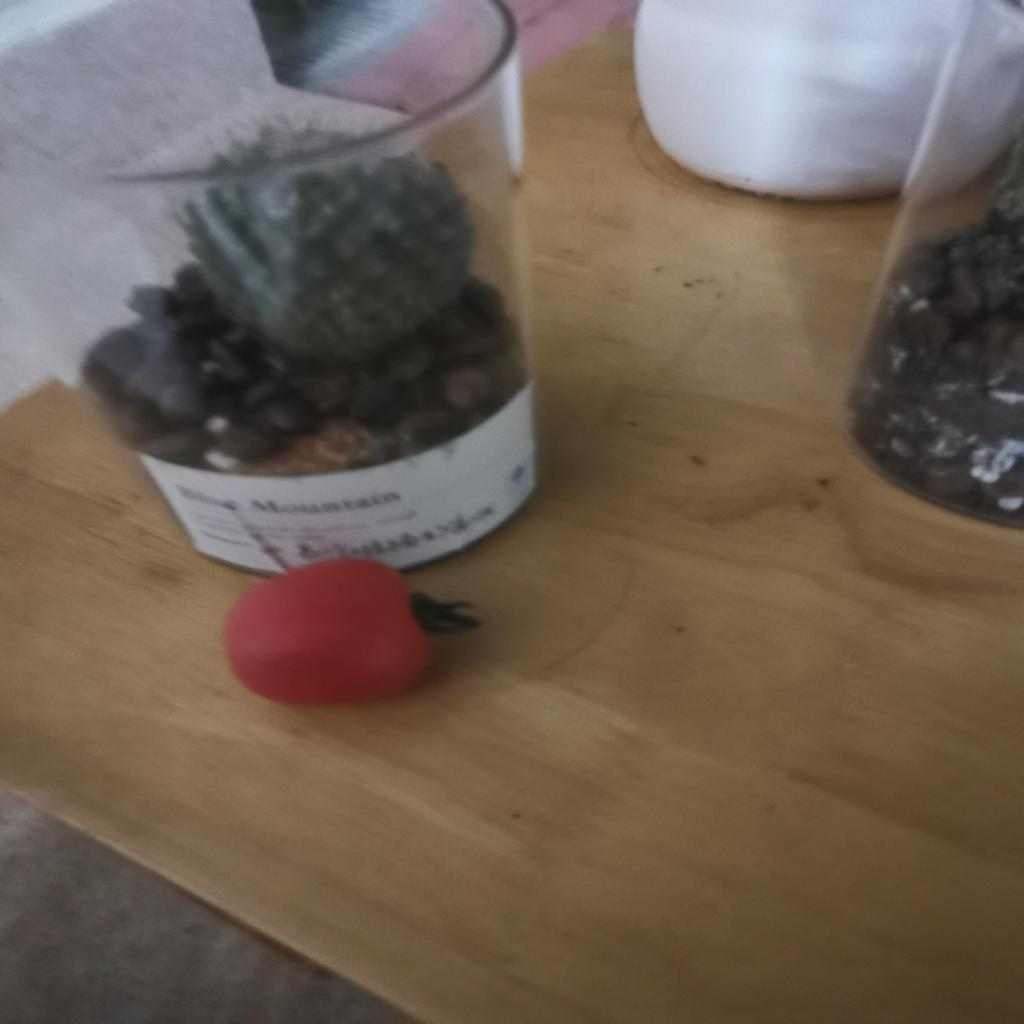tomato: (222, 557, 472, 711)
